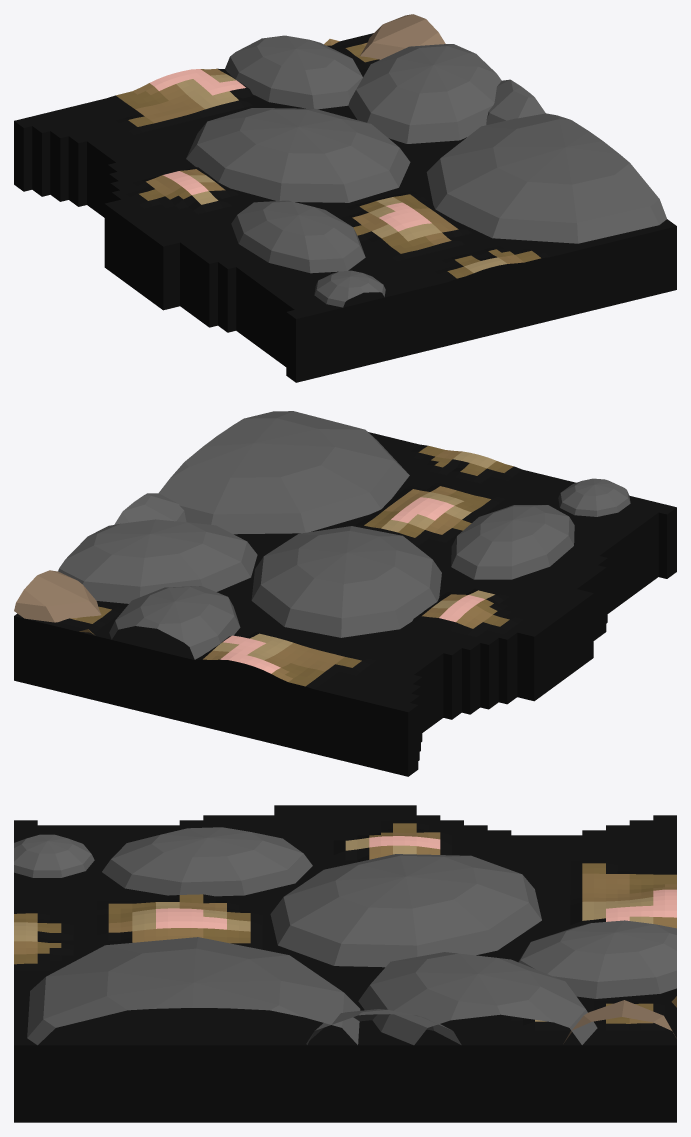
The picture shows the model from 3 angles, top to bottom: view 1: azimuth 30°, elevation 25°; view 2: azimuth 150°, elevation 25°; view 3: azimuth 270°, elevation 25°; orthographic projection. The views are drawn at different scales.
Parts seen in each view (by area): view 1: shapesz-t130; view 2: shapesz-t130; view 3: shapesz-t130.
Boxes of the visible parts, x1=… form: shapesz-t130: x1=14, y1=14, x2=676, y2=382; shapesz-t130: x1=14, y1=411, x2=676, y2=776; shapesz-t130: x1=14, y1=805, x2=676, y2=1122.
Size of the model in its own units: 2 by 0.458 by 2.33.
